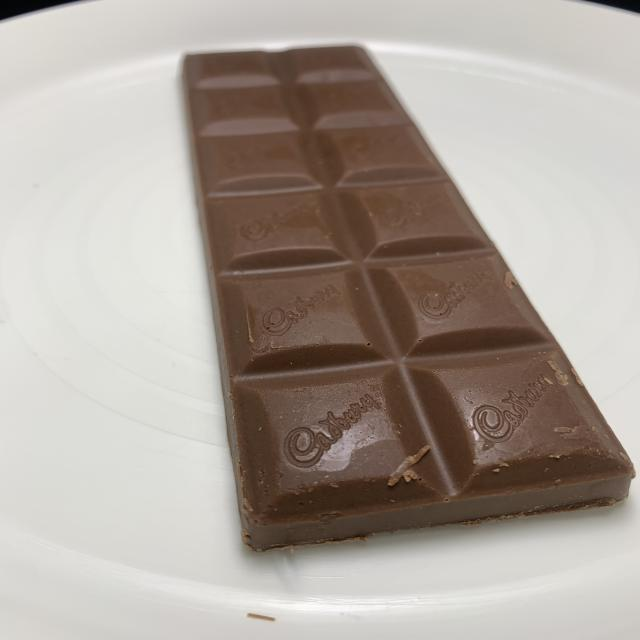Chocolate: (175, 39, 640, 552)
